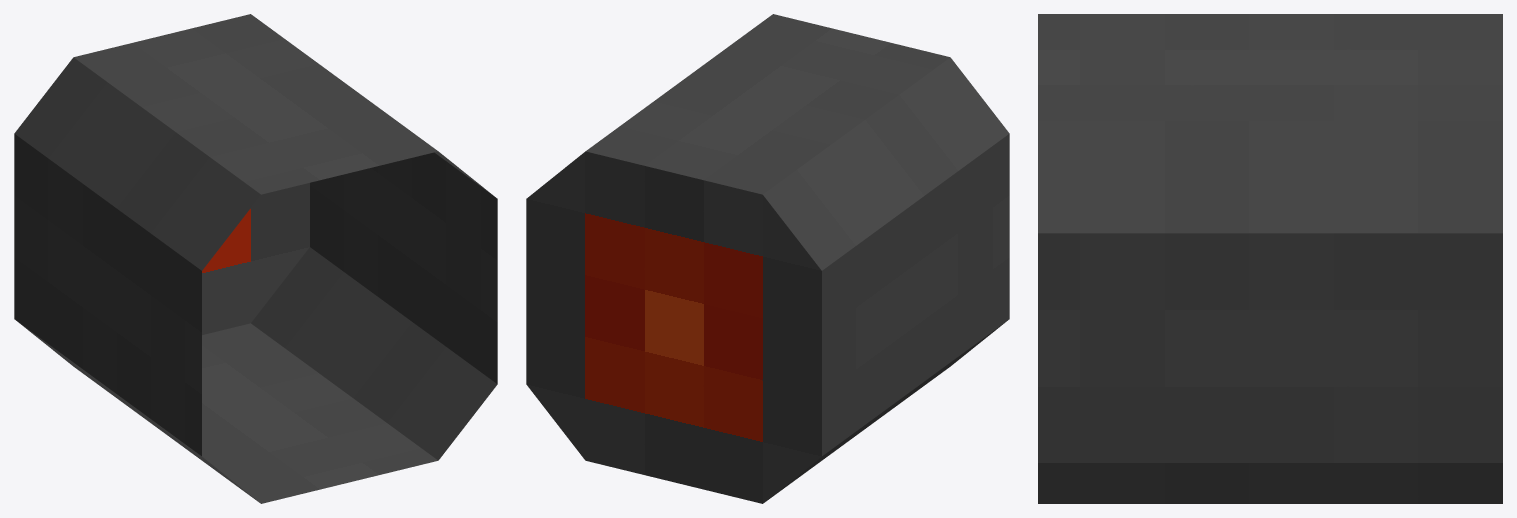
Rendered from det_cord_posz.obj.
3 views of the same model, side by side, from view 1: azimuth 30°, elevation 25°; view 2: azimuth 150°, elevation 25°; view 3: azimuth 270°, elevation 25° (orthographic). The views are drawn at different scales.
Visible parts, largest first — view 1: posZ; view 2: posZ; view 3: posZ.
Boxes of the visible parts, <box> form: posZ: <box>14,14,497,503</box>; posZ: <box>526,14,1009,503</box>; posZ: <box>1038,14,1502,503</box>.
Size of the model in its own units: 0.3125 by 0.3125 by 0.3438.
